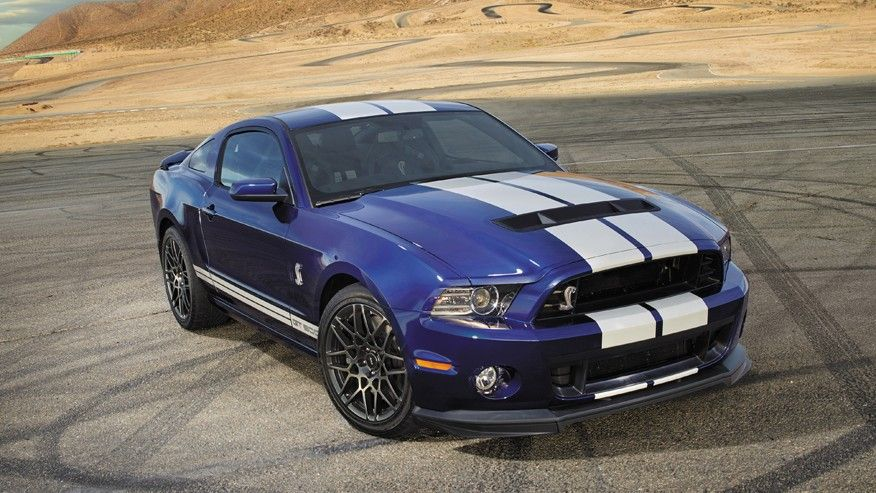sedan: (146, 100, 757, 440)
